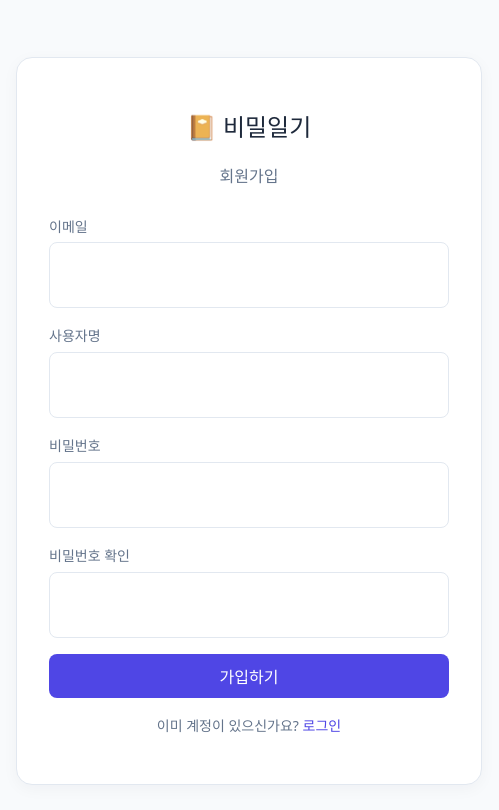
Test: SignupPage › 입력값이 유효하지 않으면 필드별 오류를 표시하고 서버에 요청하지 않는다
Type "not-an-email" into the field named "email" at (249, 275), box 49,242 -> 449,308
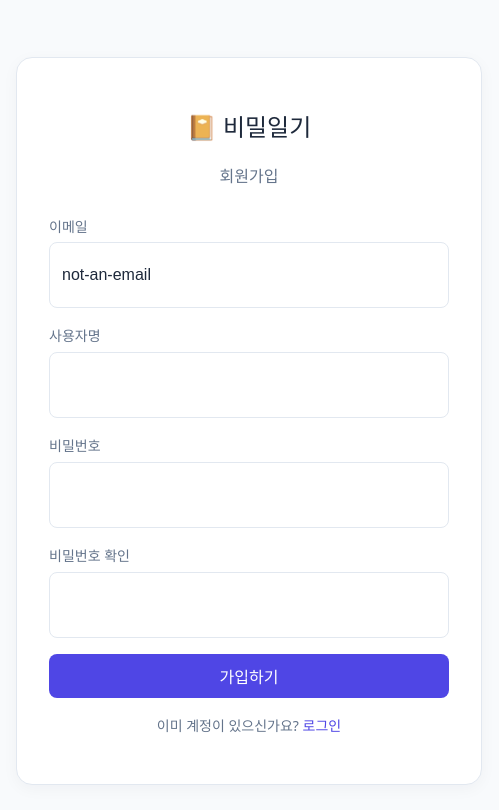
Type "a" into the field named "username" at (249, 385), box 49,352 -> 449,418
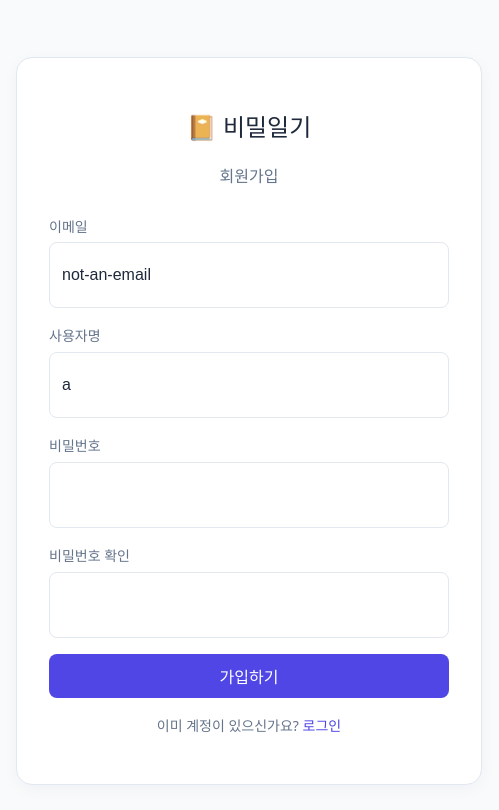
Type "1234567" into the password field named "password" at (249, 495), box 49,462 -> 449,528
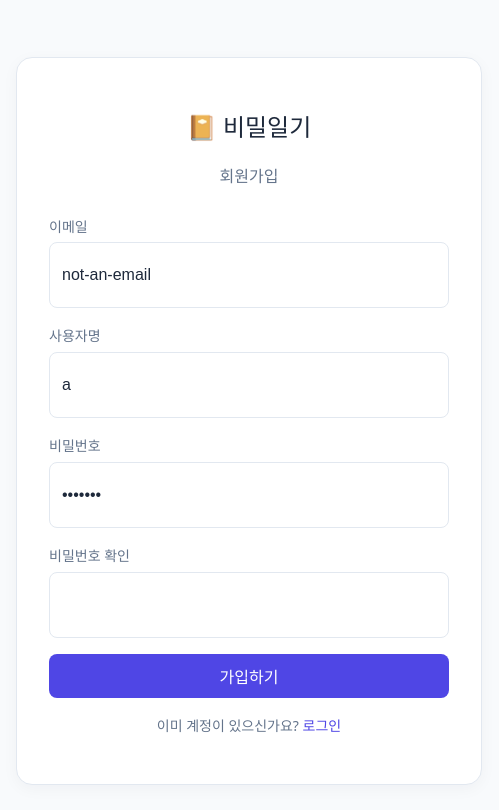
Type "different" into the password field named "passwordConfirm" at (249, 605), box 49,572 -> 449,638
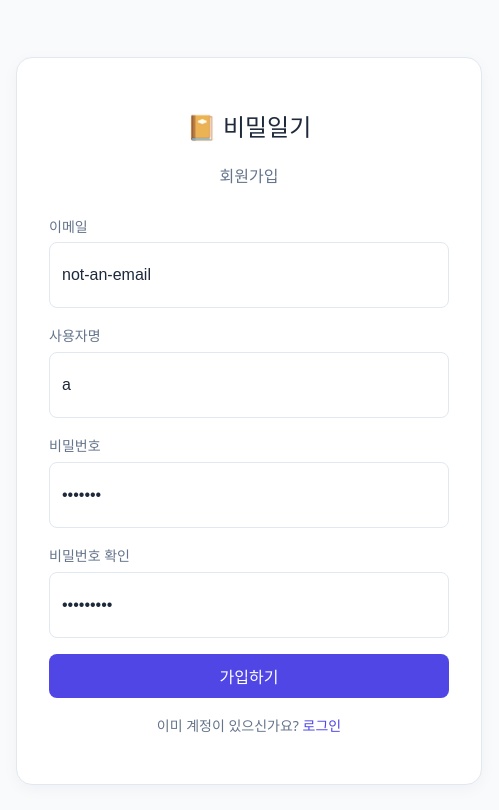
Submit the form, box 49,214 -> 449,698
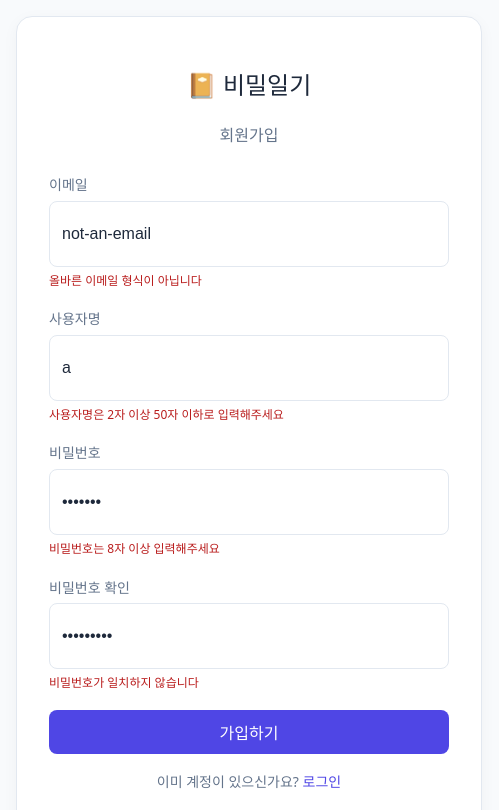
Now the text "올바른 이메일 형식이 아닙니다" is shown, box 49,272 -> 202,289
Now the text "사용자명은 2자 이상 50자 이하로 입력해주세요" is shown, box 49,406 -> 284,423
Now the text "비밀번호는 8자 이상 입력해주세요" is shown, box 49,540 -> 220,557
